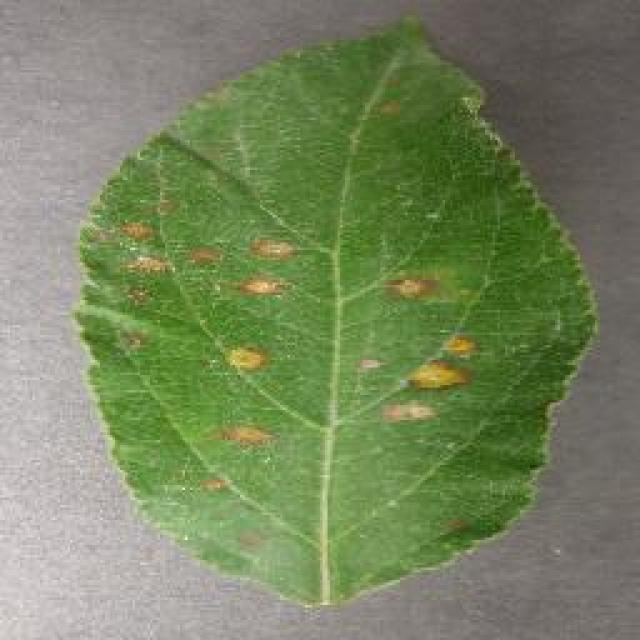Apple___Cedar_apple_rust: (50, 171, 578, 562)
